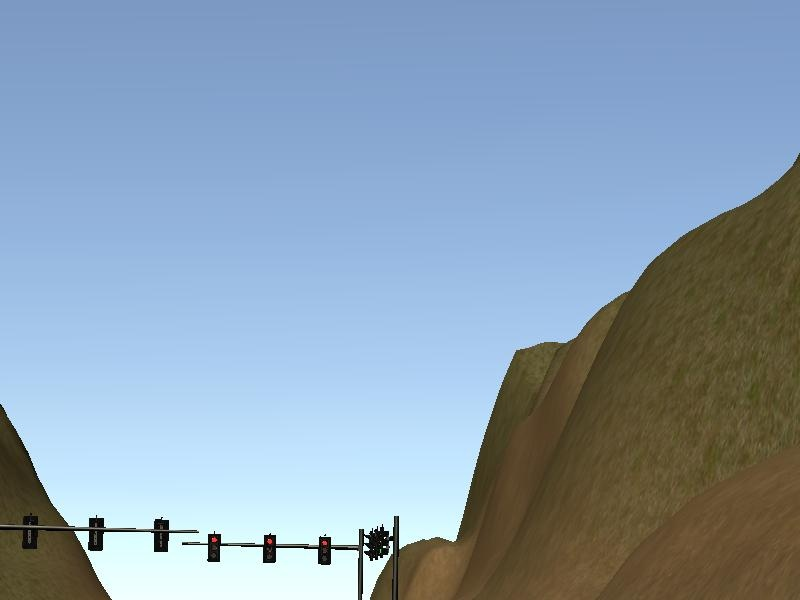traffic_light_red: (193, 532, 357, 565)
